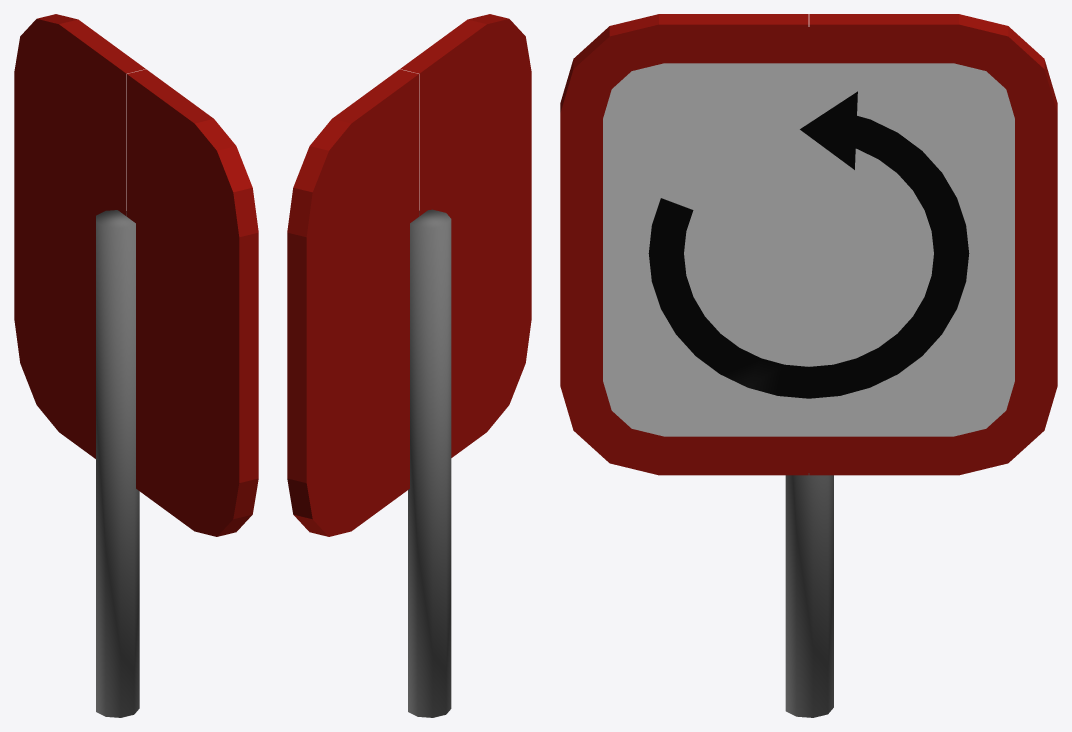
The model's file is TurnAround.glb.
The picture shows the model from 3 angles, left to right: view 1: azimuth 30°, elevation 25°; view 2: azimuth 150°, elevation 25°; view 3: azimuth 270°, elevation 25°; orthographic projection. The views are drawn at different scales.
Parts seen in each view (by area): view 1: Cube, Plane.002; view 2: Cube, Plane.002; view 3: Cube.001, Cube, Plane.003, Plane.002.
Boxes of the visible parts, x1=… form: Cube: x1=14, y1=14, x2=258, y2=536; Plane.002: x1=96, y1=210, x2=139, y2=717; Cube: x1=287, y1=14, x2=531, y2=536; Plane.002: x1=408, y1=209, x2=451, y2=717; Cube.001: x1=603, y1=63, x2=1014, y2=436; Cube: x1=560, y1=14, x2=1057, y2=475; Plane.003: x1=648, y1=91, x2=969, y2=398; Plane.002: x1=785, y1=473, x2=833, y2=717.
Size of the model in its own units: 0.2826 by 3.1 by 2.
